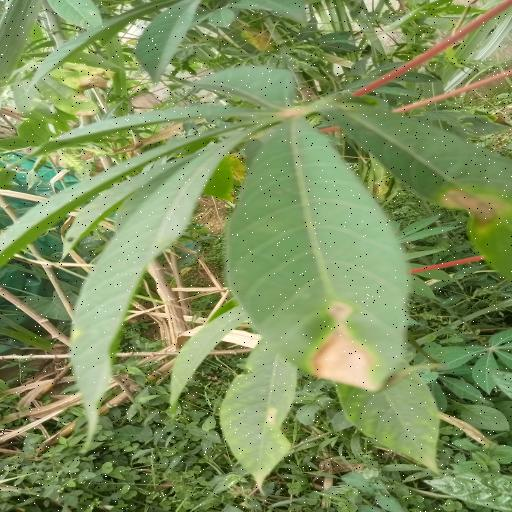Cassava_Root_Rot: (9, 62, 512, 418)
